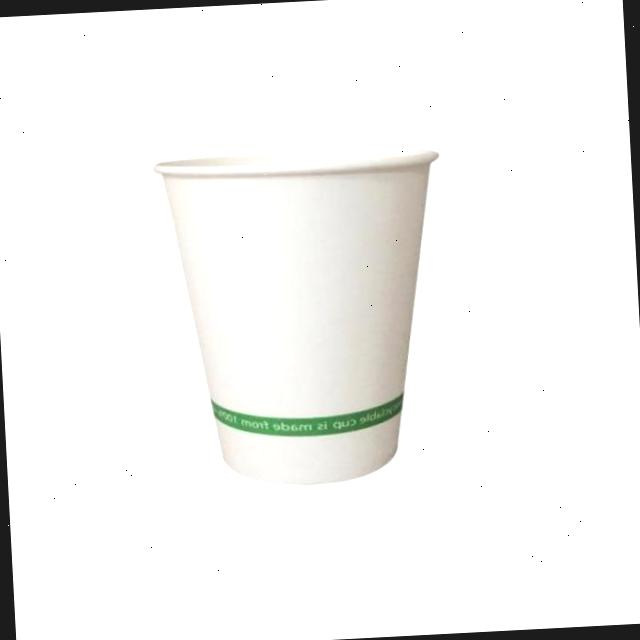trash: (123, 125, 482, 501)
